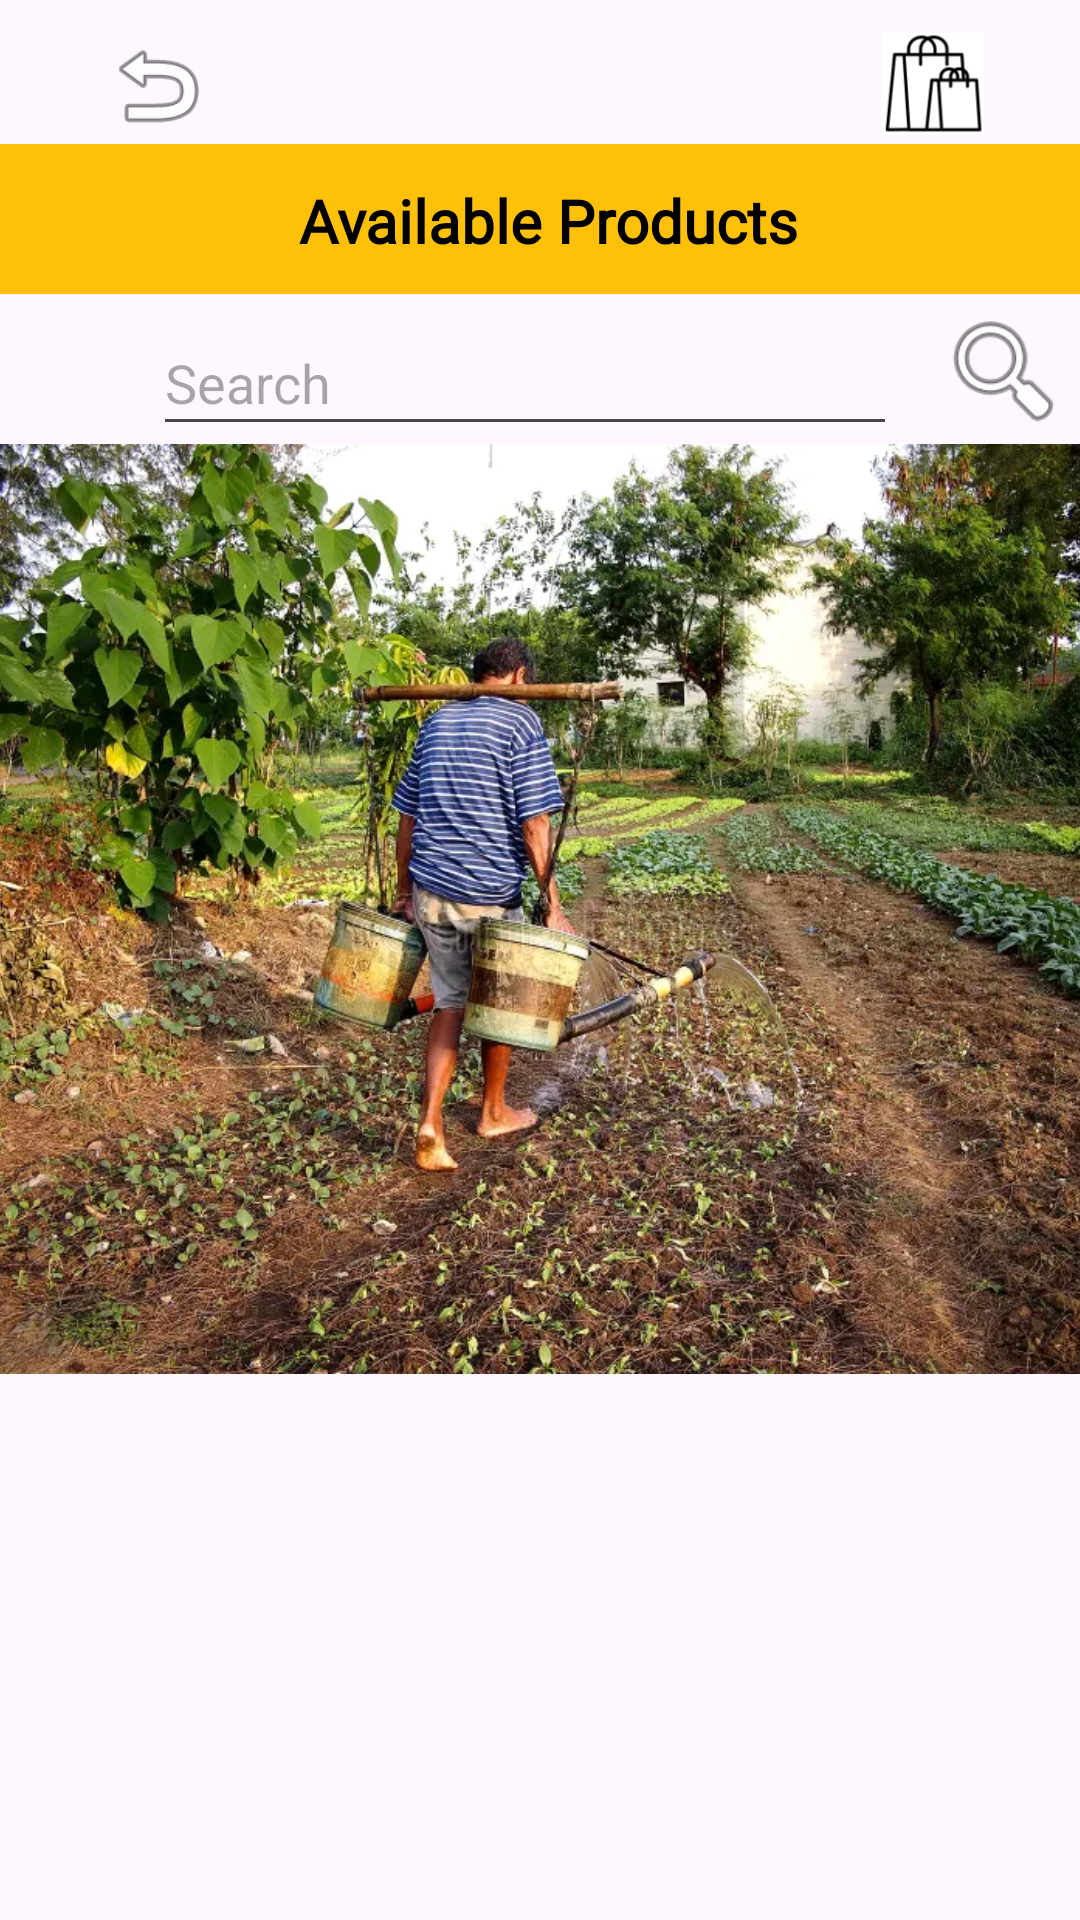

Screen size 1080 × 1920. Icon name, then its box in pixels as (x1, y1, x2, y2):
bag: (885, 35, 982, 132)
revert: (119, 50, 199, 123)
